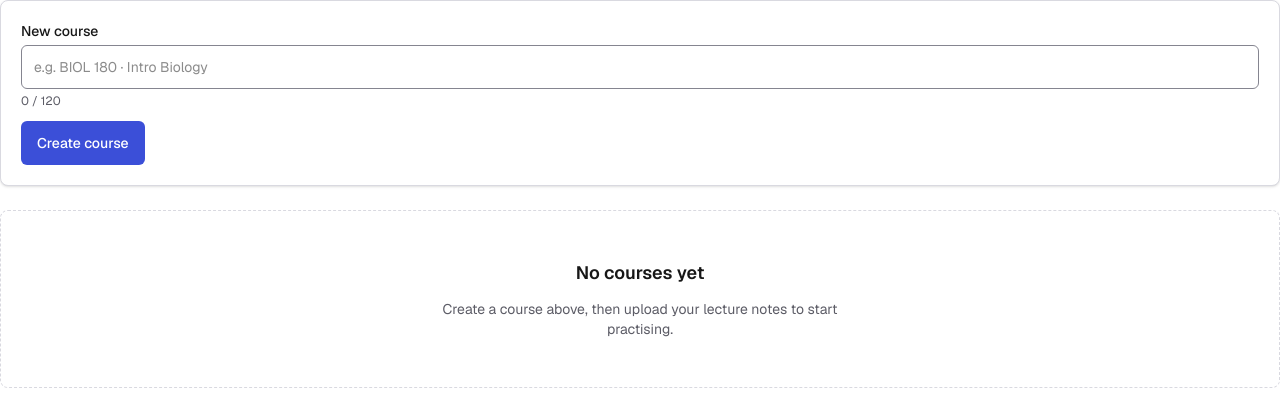
CourseLibrary › creates once on a double submit
Expected: the heading "No courses yet" is shown, [576,259,704,287]
Type "CHEM 142" into the field labelled "New course" at (640, 67), box [21,45,1259,89]
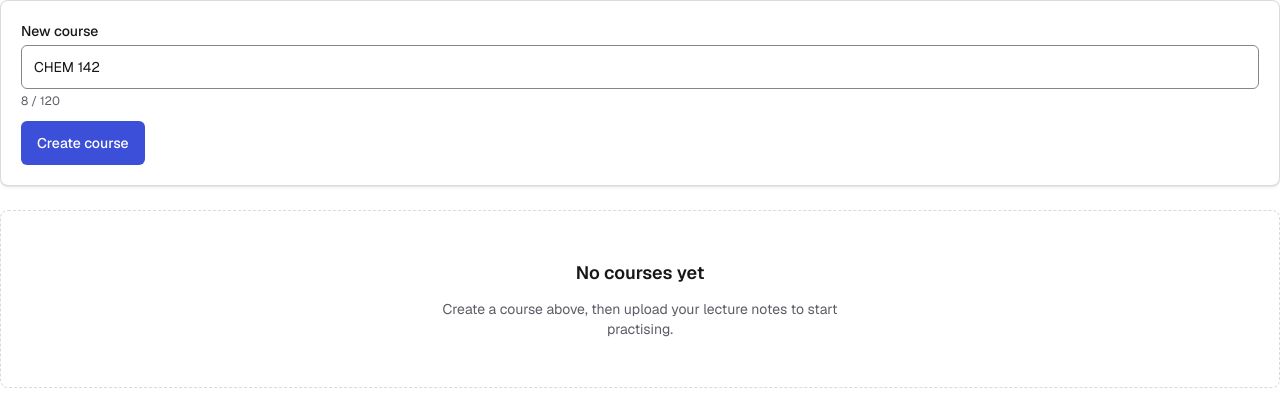
Submit the form named "Create a course", box [21,21,1259,165]
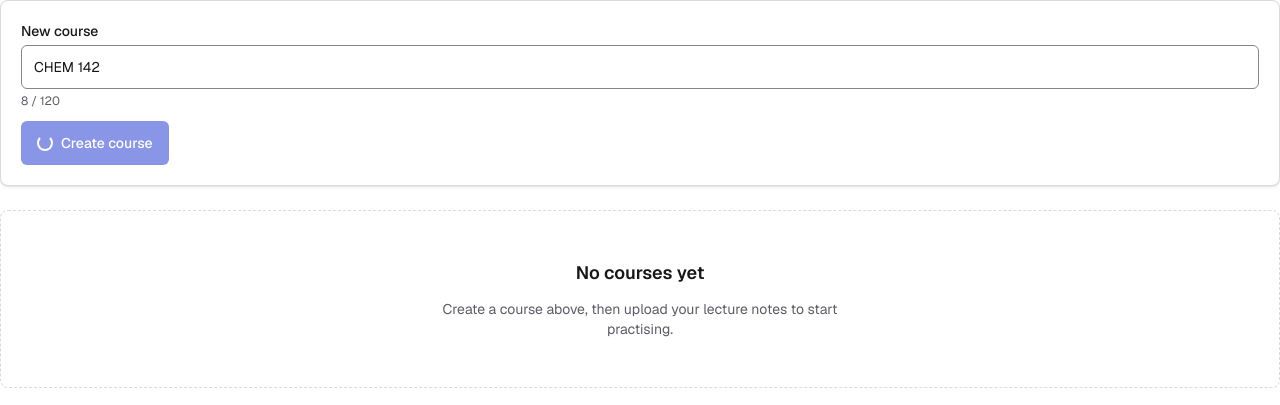
Submit the form named "Create a course", box [21,21,1259,165]
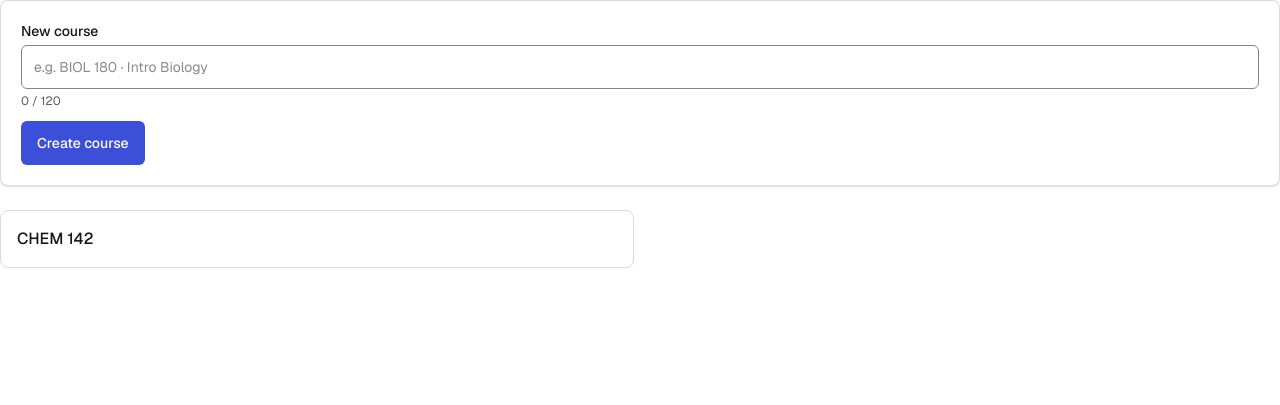
Expected: the link "CHEM 142" is shown, [0,210,634,268]
